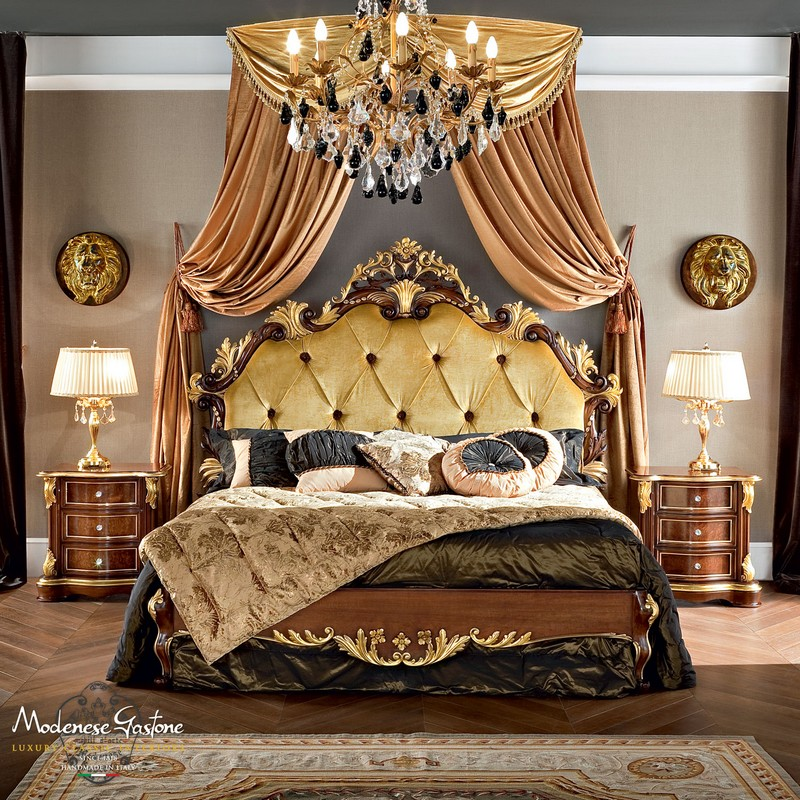bed: (160, 241, 656, 710)
lamp: (660, 340, 755, 482), (47, 337, 139, 474)
stool: (628, 458, 764, 611), (39, 467, 164, 596)
